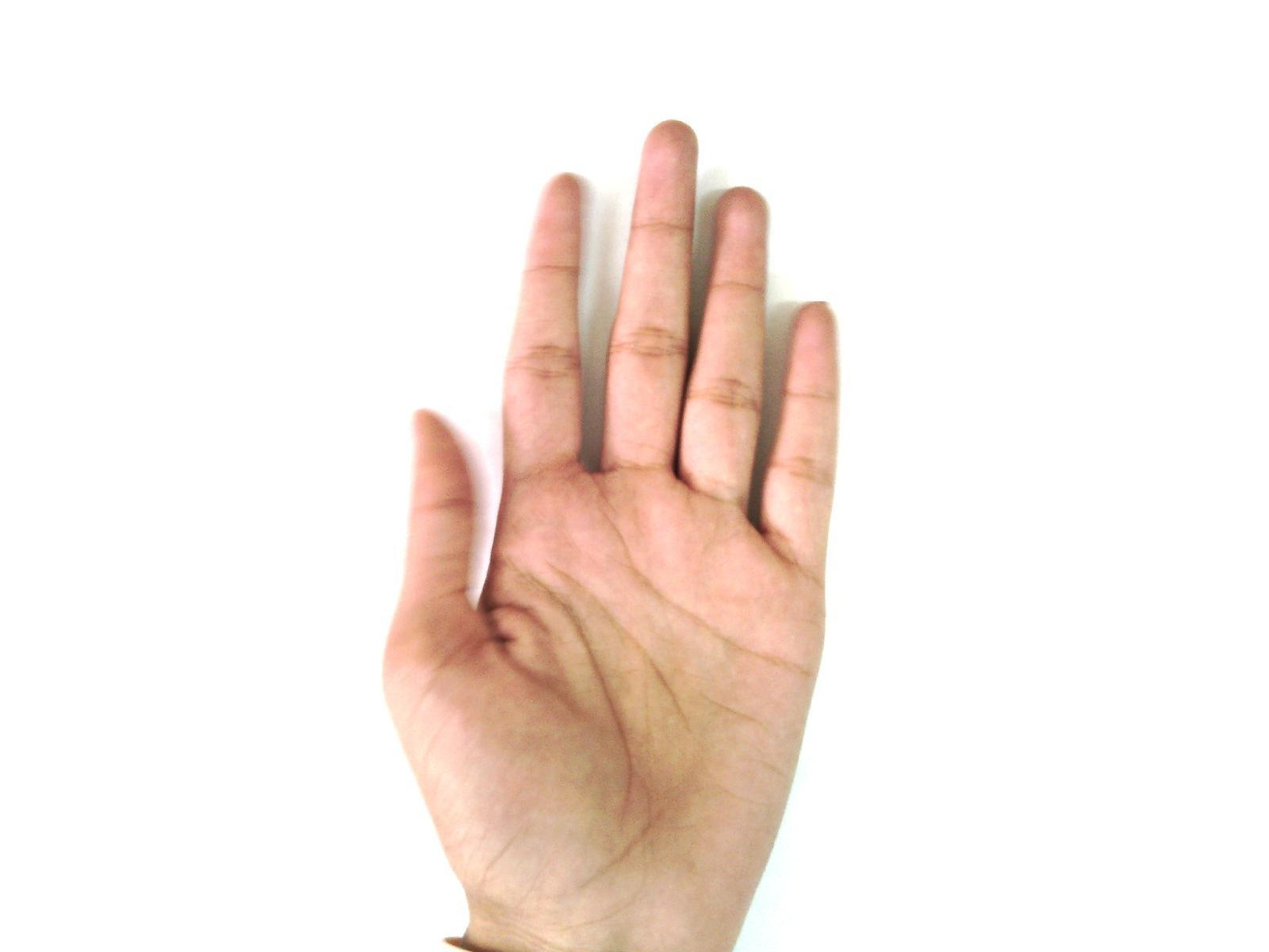open_palm: (379, 118, 844, 951)
